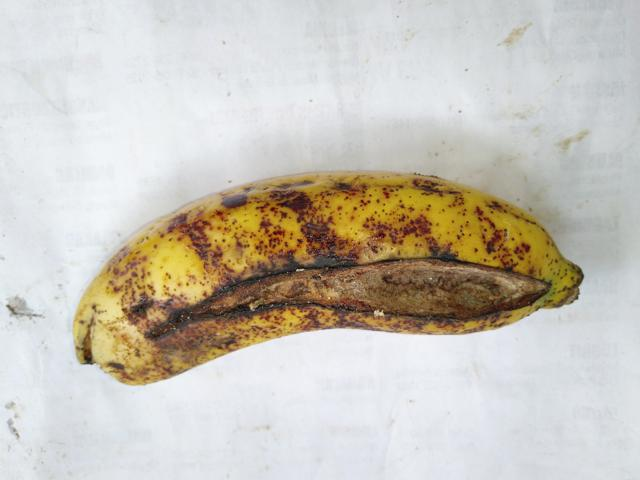rotten: (127, 205, 597, 363)
